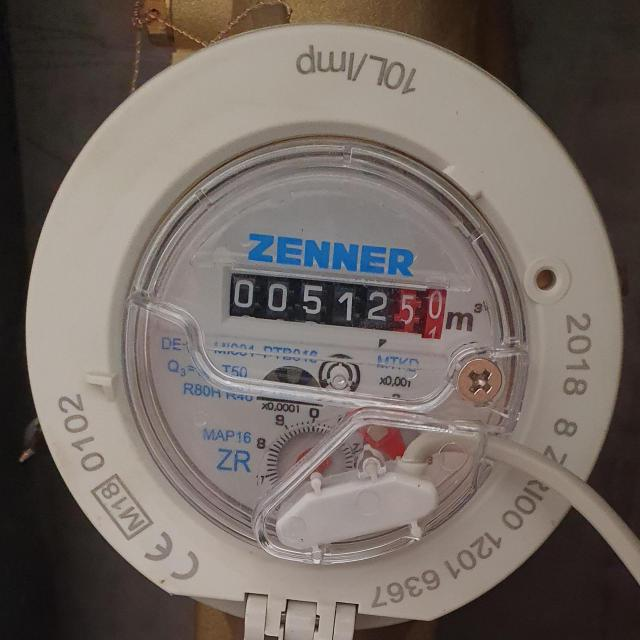gaz_meter: (124, 131, 529, 566)
indication: (222, 269, 445, 346)
